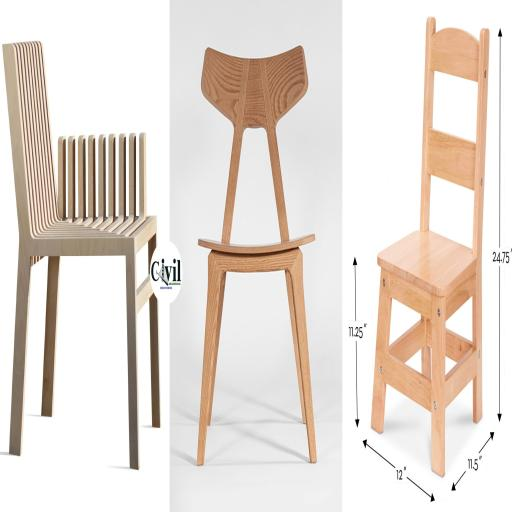chair: (366, 7, 492, 475)
